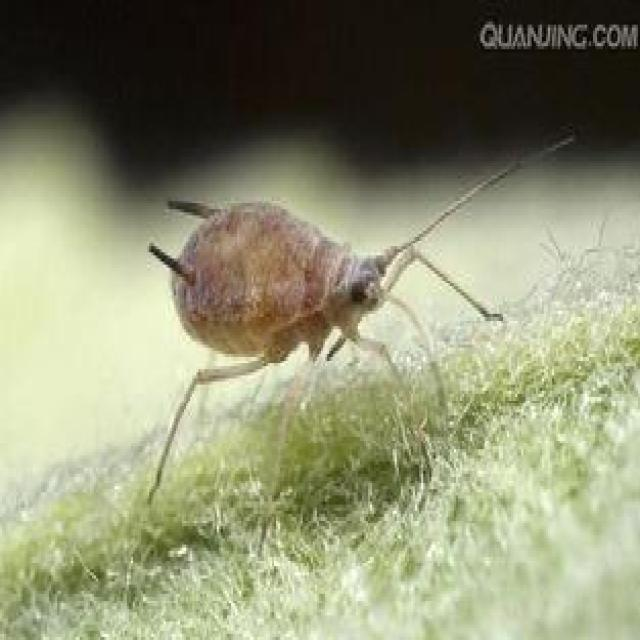Aphids: (81, 115, 606, 506)
